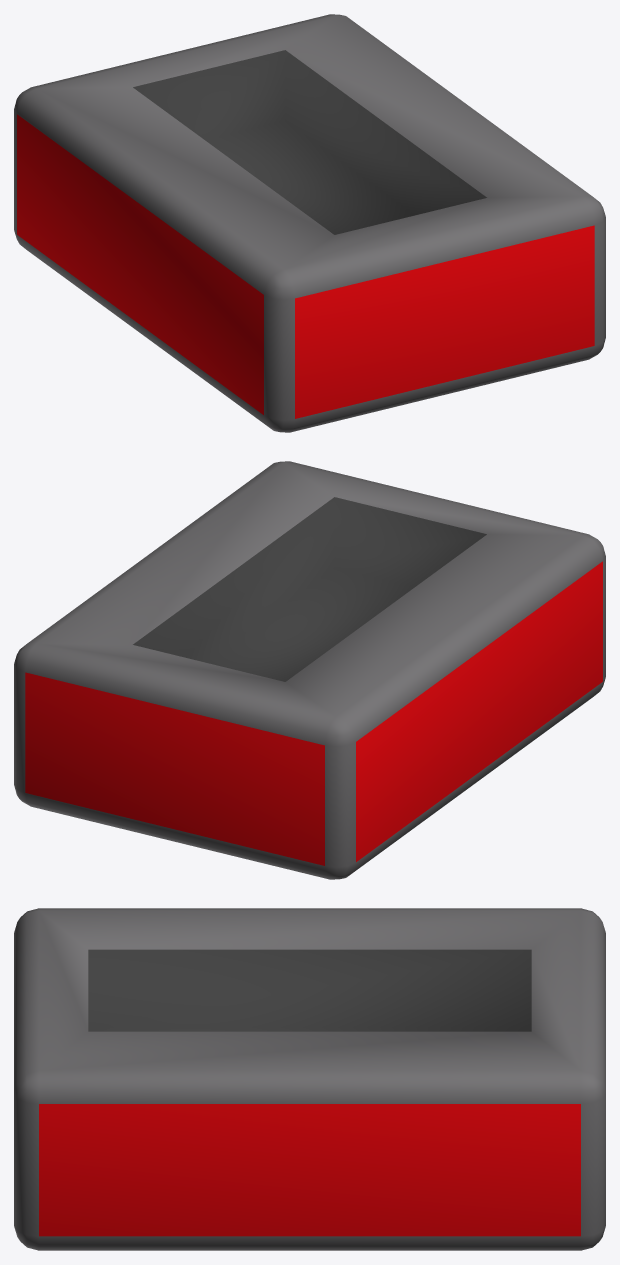
The model's file is ctdo.fbx.
3 views of the same model, one above another, from view 1: azimuth 30°, elevation 25°; view 2: azimuth 150°, elevation 25°; view 3: azimuth 270°, elevation 25° (orthographic). The views are drawn at different scales.
Parts seen in each view (by area): view 1: Cube.001; view 2: Cube.001; view 3: Cube.001.
Boxes of the visible parts, <box> form: Cube.001: <box>14,14,605,432</box>; Cube.001: <box>14,461,605,879</box>; Cube.001: <box>14,908,605,1250</box>.
Size of the model in its own units: 200 by 91.27 by 276.
